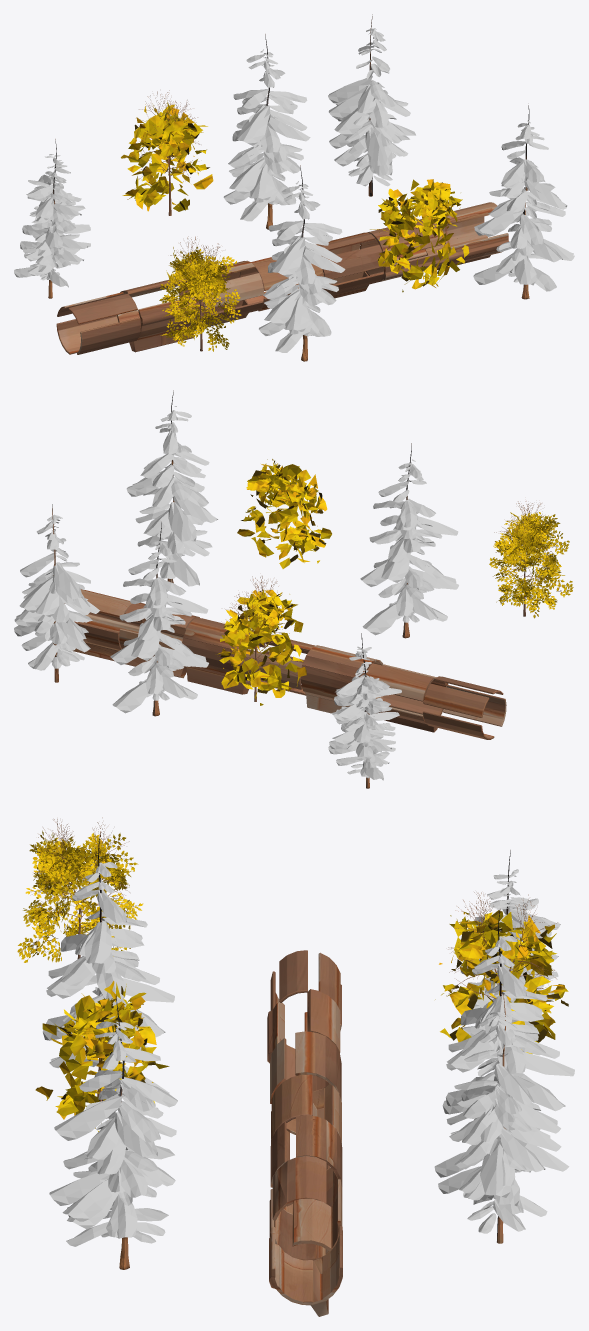
The model's file is Level 6 g.fbx.
3 views of the same model, one above another, from view 1: azimuth 30°, elevation 25°; view 2: azimuth 150°, elevation 25°; view 3: azimuth 270°, elevation 25° (orthographic). The views are drawn at different scales.
Parts seen in each view (by area): view 1: Object.351, Object.511, Object.518, Object.515, Object.517, Object.353, Object.513, Object.359, level_10.004, level_10.003, level_10.007, level_10.001 (+5 smaller); view 2: Object.511, Object.351, Object.518, Object.515, Object.513, Object.517, Object.353, Object.359, level_10.004, level_10.008, level_10.007, level_10.003 (+5 smaller); view 3: Object.518, Object.515, Object.351, Object.511, Object.359, Object.513, Object.517, level_10.001, level_10, level_10.008, level_10.003, Object.353 (+5 smaller).
Boxes of the visible parts, x1,y1,x2,y2 form: Object.351: (259,181,345,352); Object.511: (223,49,310,221); Object.518: (473,120,574,291); Object.515: (328,28,415,186); Object.517: (370,179,469,292); Object.353: (14,154,90,287); Object.513: (121,102,213,211); Object.359: (159,247,241,351); level_10.004: (56,292,140,354); level_10.003: (316,232,383,298); level_10.007: (117,278,204,352); level_10.001: (425,202,508,269); Object.511: (110,537,208,713); Object.351: (360,459,458,635); Object.518: (126,406,217,586); Object.515: (14,514,99,670); Object.513: (217,589,306,705); Object.517: (237,459,331,568); Object.353: (328,646,401,780); Object.359: (489,512,573,618); level_10.004: (422,676,506,739); level_10.008: (300,645,383,714); level_10.007: (366,663,448,732); level_10.003: (182,617,265,694); Object.518: (49,1016,177,1246); Object.515: (434,1012,561,1233); Object.351: (42,856,174,1096); Object.511: (442,930,574,1172); Object.359: (17,830,143,962); Object.513: (435,910,568,1053); Object.517: (35,981,169,1131); level_10.001: (269,1199,342,1316); level_10: (269,1156,342,1260); level_10.008: (270,1031,341,1134); level_10.003: (270,1115,342,1214); Object.353: (460,869,560,1052).
Size of the model in its own units: 1505 by 732 by 1228.
